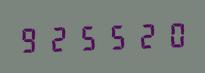five: (74, 21, 101, 53), (102, 20, 129, 52)
nine: (17, 22, 44, 55)
two: (45, 21, 72, 54), (130, 19, 157, 51)
zero: (158, 18, 185, 50)
